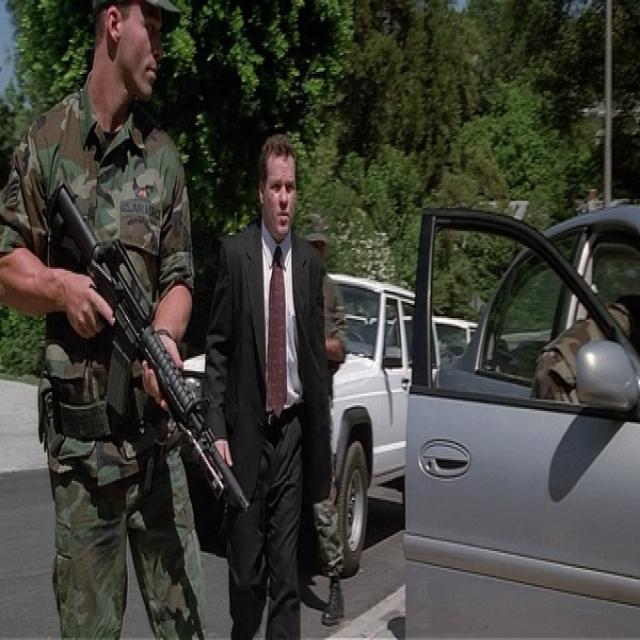rifle: (54, 183, 255, 530)
